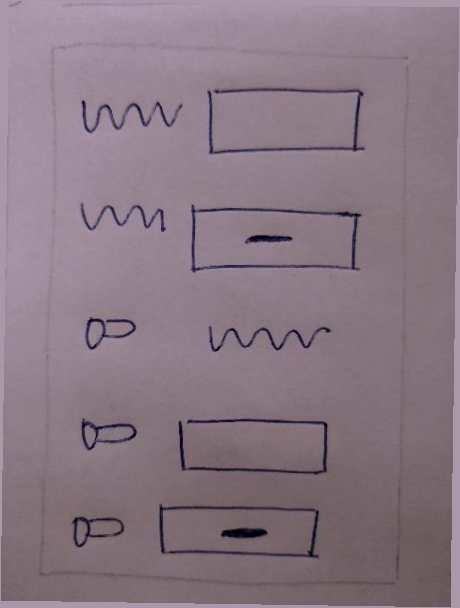button: (186, 198, 368, 281), (155, 498, 325, 568)
switch: (74, 310, 146, 359), (74, 413, 146, 460), (68, 507, 126, 552)
text: (192, 309, 338, 365), (71, 86, 183, 143), (68, 193, 182, 249)
text_input: (199, 79, 371, 165), (169, 408, 337, 486)
